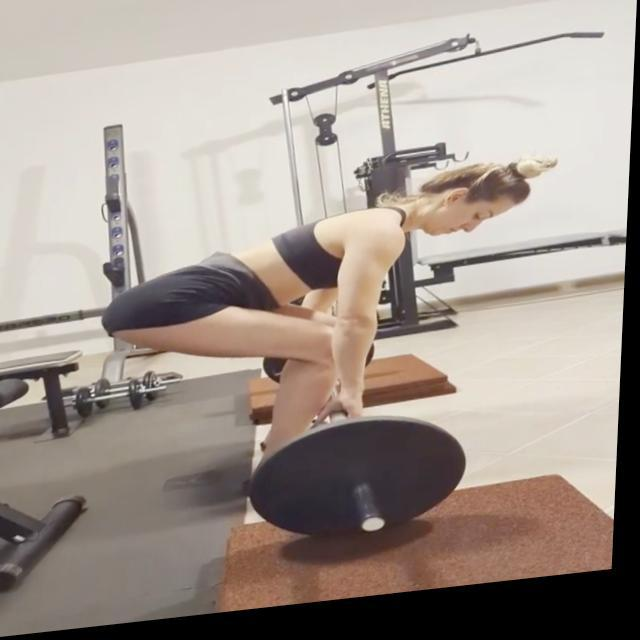barbell: (243, 412, 484, 568)
